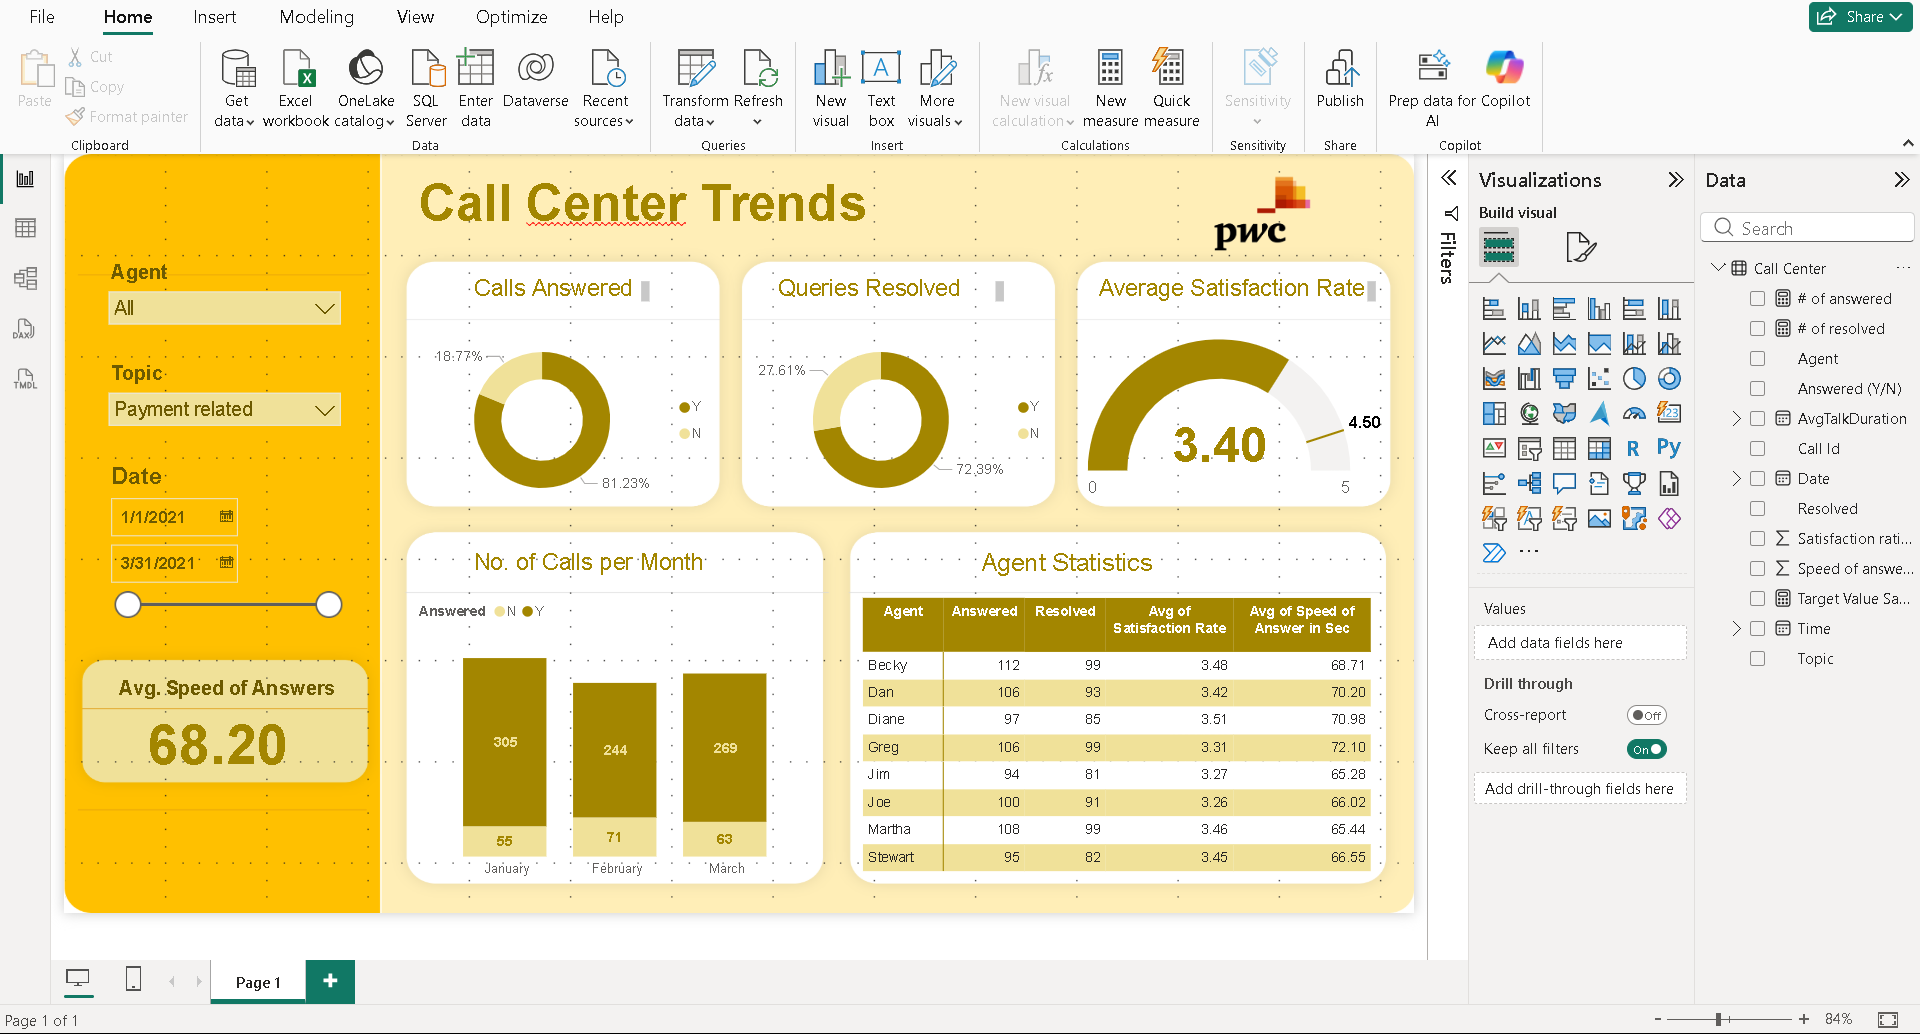

The dashboard page shown, as its layout file describes it:
{"tool":"powerbi","page":{"name":"Page 1","canvas":[1280,720],"ordinal":0},"visuals":[{"type":"donutChart","fields":{"Category":["Call Center.Answered (Y/N)"],"Y":["Call Center.Answered (Y/N)"]},"box":[320.3,159.5,299.1,184.8],"z":0},{"type":"donutChart","fields":{"Category":["Call Center.Resolved"],"Y":["Call Center.Resolved"]},"box":[640.7,159.5,299.1,184.8],"z":1000},{"type":"gauge","fields":{"TargetValue":["Call Center.Target Value Satisfaction"],"Y":["Call Center.Satisfaction rating"],"MaxValue":["Sum(Call Center.Satisfaction rating)1"]},"box":[966.3,159.5,293.7,184.8],"z":2000},{"type":"columnChart","fields":{"Category":["Call Center.Date.Variation.Date Hierarchy.Month"],"Y":["Call Center.Call Id"],"Series":["Call Center.Answered (Y/N)"]},"box":[332.3,413.4,385.5,280.5],"z":3000},{"type":"pivotTable","fields":{"Rows":["Call Center.Agent"],"Values":["Call Center.# of answered","Call Center.# of resolved","Call Center.Satisfaction rating","Call Center.Speed of answer in seconds"]},"box":[752,416,496,272],"z":4000},{"type":"textbox","box":[384,112,176,32],"z":5000},{"type":"textbox","box":[672,112,224,32],"z":6000},{"type":"textbox","box":[976,112,272,32],"z":7000},{"type":"textbox","box":[384,368,304,48],"z":8000},{"type":"textbox","box":[864,368,240,48],"z":9000},{"type":"textbox","box":[331.9,13.5,457.9,69.8],"z":11000},{"type":"slicer","fields":{"Values":["Call Center.Agent"]},"box":[32,96,240,80],"z":12000},{"type":"slicer","fields":{"Values":["Call Center.Topic"]},"box":[32,192,240,80],"z":13000},{"type":"slicer","fields":{"Values":["Call Center.Date"]},"box":[32,288,240,192],"z":14000},{"type":"card","fields":{"Values":["Call Center.Speed of answer in seconds"]},"box":[25.3,525.3,242.2,61.4],"z":15000},{"type":"textbox","box":[47,490.4,220.5,34.9],"z":16000},{"type":"image","box":[1056,16,160,80],"z":17000}]}

Visuals, with their boxes on the page's 1280x720 design canvas (x1, y1, x2, y2). These are canvas units, not pixel positions in the 1920x1034 screenshot, which may show the page scaled, cropped or inside an application window:
donutChart - Call Center.Answered (Y/N) x Call Center.Answered (Y/N): rect(320, 160, 619, 344)
donutChart - Call Center.Resolved x Call Center.Resolved: rect(641, 160, 940, 344)
gauge - Call Center.Target Value Satisfaction x Call Center.Satisfaction rating: rect(966, 160, 1260, 344)
columnChart - Call Center.Date.Variation.Date Hierarchy.Month x Call Center.Call Id: rect(332, 413, 718, 694)
pivotTable - Call Center.Agent x Call Center.# of answered: rect(752, 416, 1248, 688)
textbox: rect(384, 112, 560, 144)
textbox: rect(672, 112, 896, 144)
textbox: rect(976, 112, 1248, 144)
textbox: rect(384, 368, 688, 416)
textbox: rect(864, 368, 1104, 416)
textbox: rect(332, 14, 790, 83)
slicer - Call Center.Agent: rect(32, 96, 272, 176)
slicer - Call Center.Topic: rect(32, 192, 272, 272)
slicer - Call Center.Date: rect(32, 288, 272, 480)
card - Call Center.Speed of answer in seconds: rect(25, 525, 268, 587)
textbox: rect(47, 490, 268, 525)
image: rect(1056, 16, 1216, 96)
